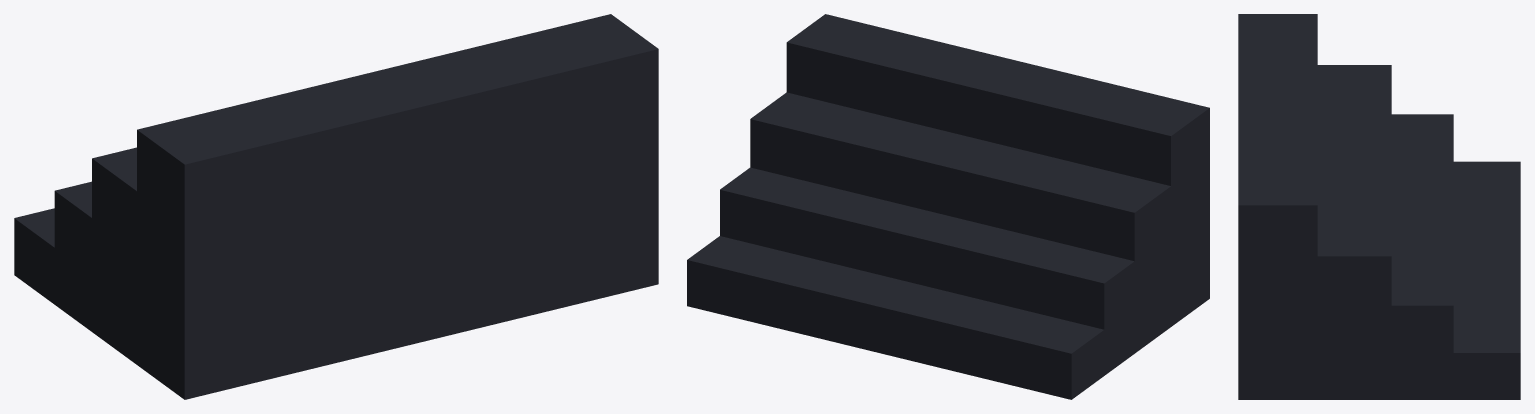
File: stairs.fbx
The picture shows the model from 3 angles, left to right: view 1: azimuth 30°, elevation 25°; view 2: azimuth 150°, elevation 25°; view 3: azimuth 270°, elevation 25°; orthographic projection. The views are drawn at different scales.
Visible parts, largest first — view 1: Plane.001; view 2: Plane.001; view 3: Plane.001.
Part boxes in pixels (box(x1,y1,x2,y2)): Plane.001: box(14, 14, 658, 399); Plane.001: box(687, 14, 1209, 399); Plane.001: box(1238, 14, 1520, 399).
Bounding box in the file's own units: 1138 × 540 × 709.
1 material, 1 textured.
